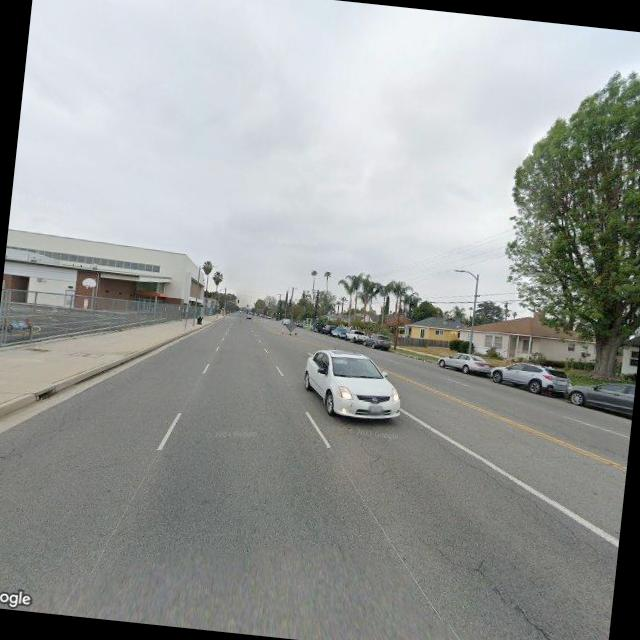crack: (405, 422, 606, 548), (464, 560, 568, 640)
